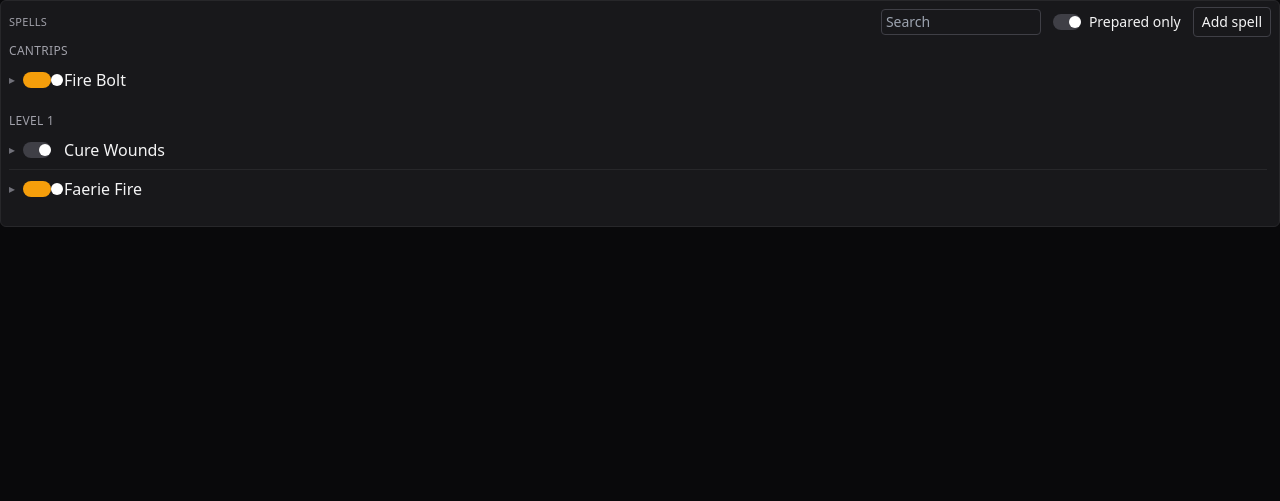
Test case: SpellList › adds a spell at a chosen level
Click the button "Add spell" at (1232, 22), box [1193,7,1271,37]
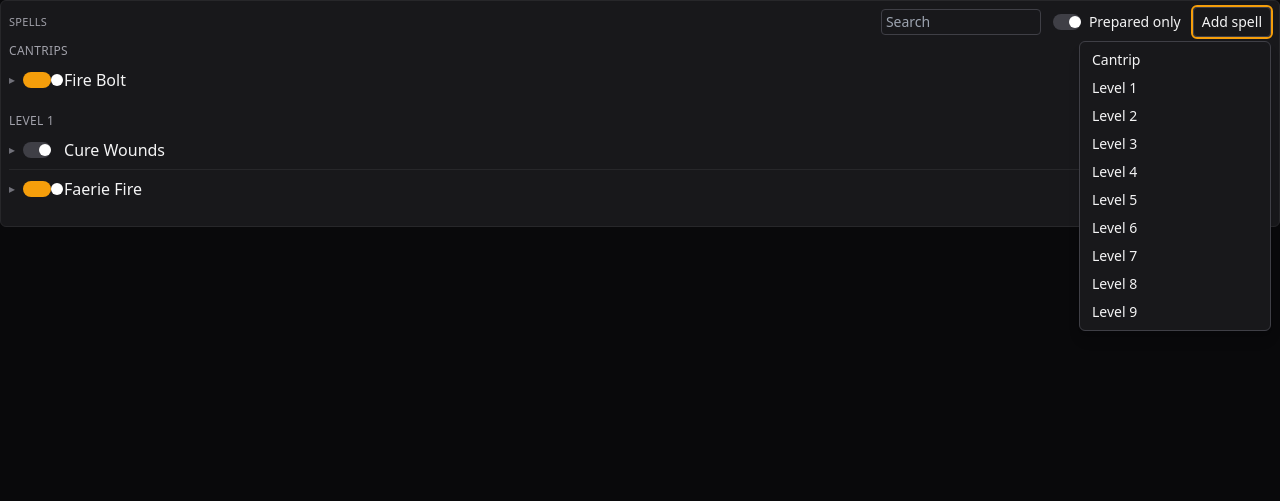
Click the menu item "Level 2" at (1175, 116), box [1084,102,1266,130]
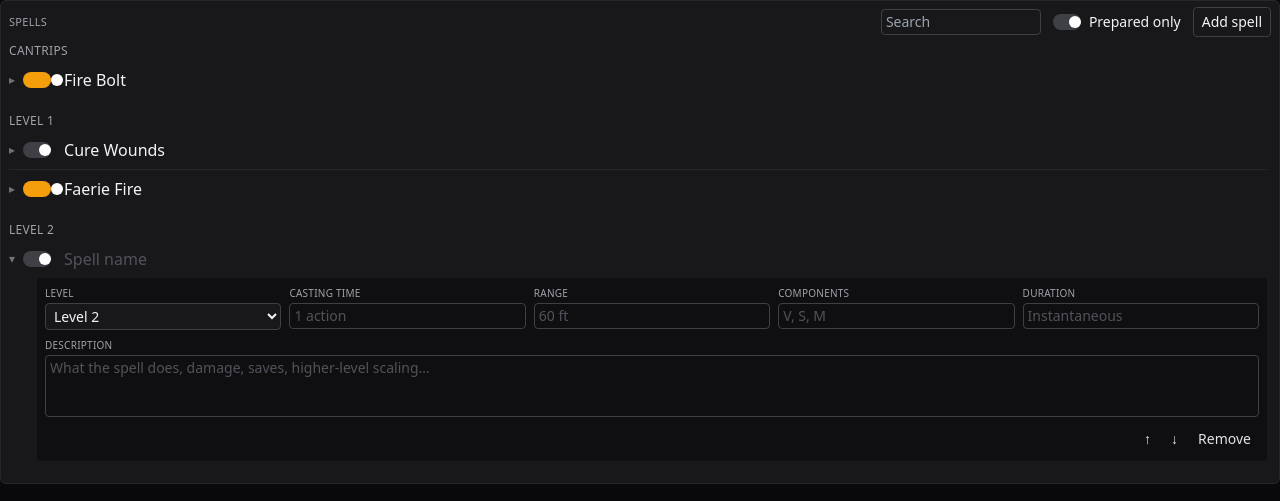
Check: the number of fields labelled "Spell name" is 1, box [59,244,1267,274]
